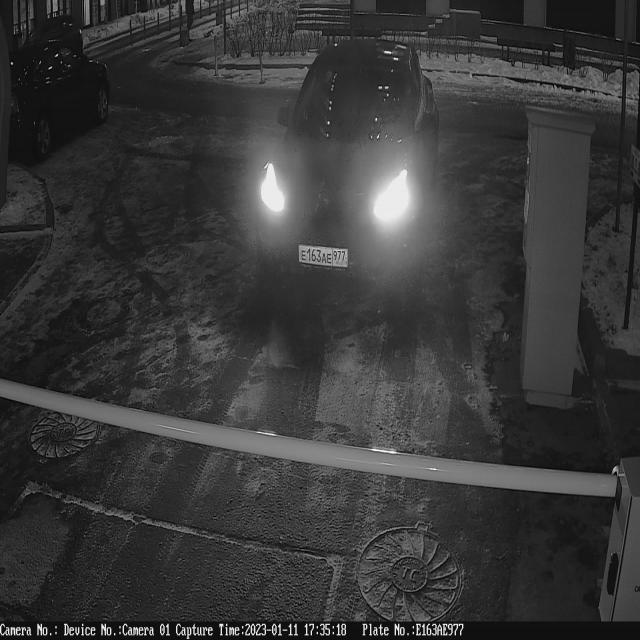car-plate-numbers: (298, 238, 356, 273)
